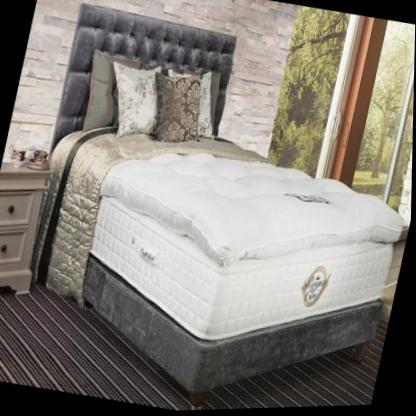Bed: (1, 0, 416, 416)
